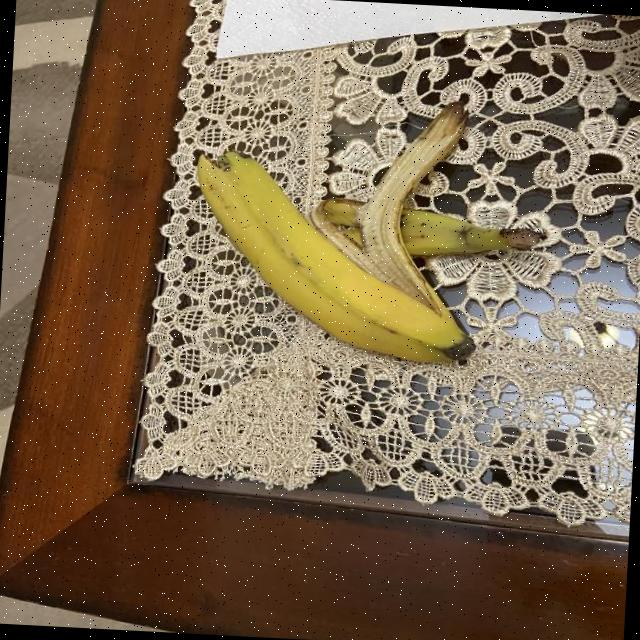banana-peel: (186, 86, 548, 372)
